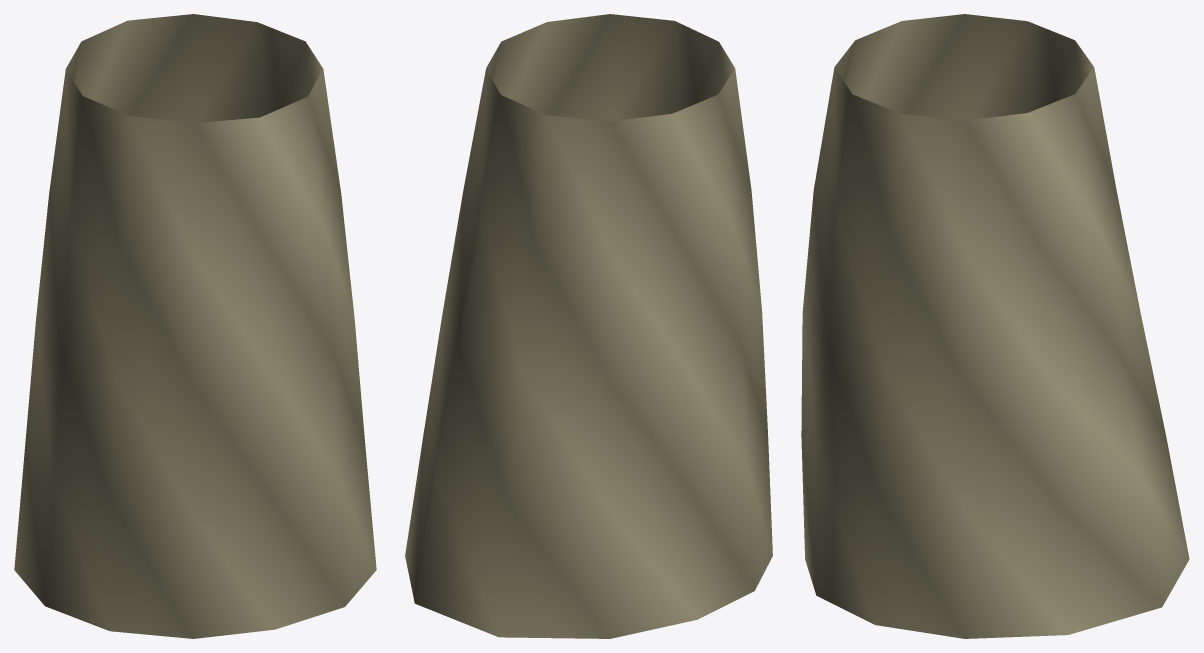
The model's file is tin_armor_cuisse.L.glb.
3 views of the same model, side by side, from view 1: azimuth 30°, elevation 25°; view 2: azimuth 150°, elevation 25°; view 3: azimuth 270°, elevation 25° (orthographic). The views are drawn at different scales.
Parts seen in each view (by area): view 1: tin_armor_cuisse.L; view 2: tin_armor_cuisse.L; view 3: tin_armor_cuisse.L.
Part boxes in pixels (box(x1,y1,x2,y2)): tin_armor_cuisse.L: box(14, 14, 376, 638); tin_armor_cuisse.L: box(405, 14, 772, 638); tin_armor_cuisse.L: box(801, 14, 1189, 638).
Size of the model in its own units: 0.2432 by 0.37 by 0.2644.
